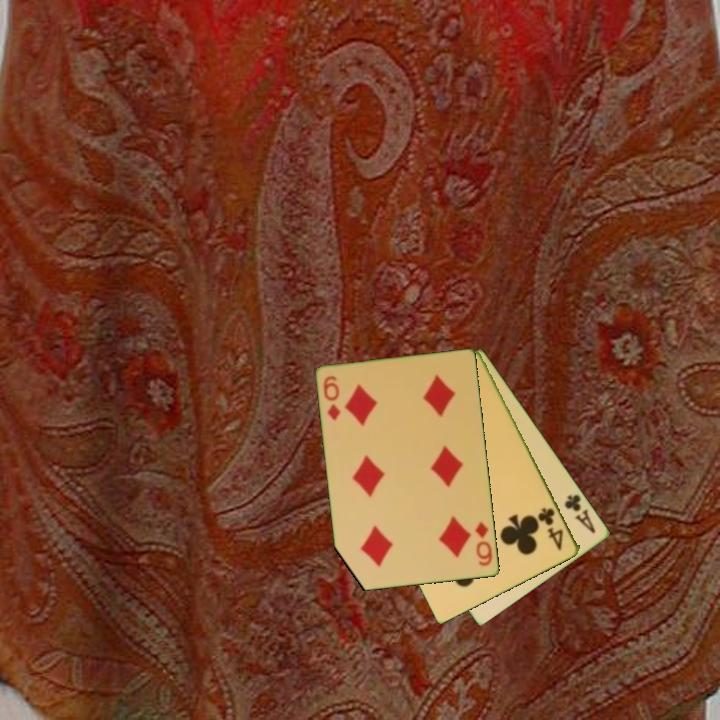4c: (535, 504, 567, 554)
6d: (320, 373, 344, 424), (472, 518, 495, 569)
Ac: (561, 491, 599, 537)
